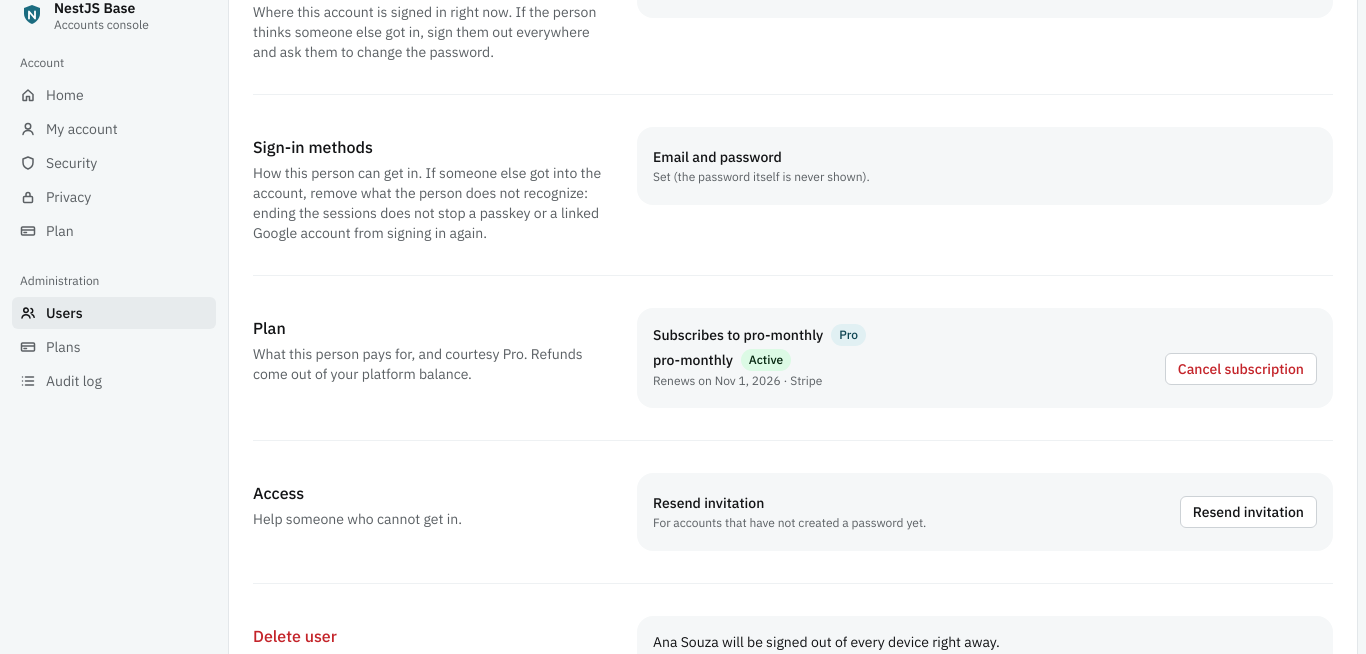
Test case: Plano do usuário (admin) › cancela a assinatura escolhendo o jeito: agora, devolvendo a última cobrança
(page scrolled)
Expected: the text "Subscribes to pro-monthly" is shown, [653,326,823,344]
Click the button "Cancel subscription" at (1241, 369), box [1165,353,1317,385]
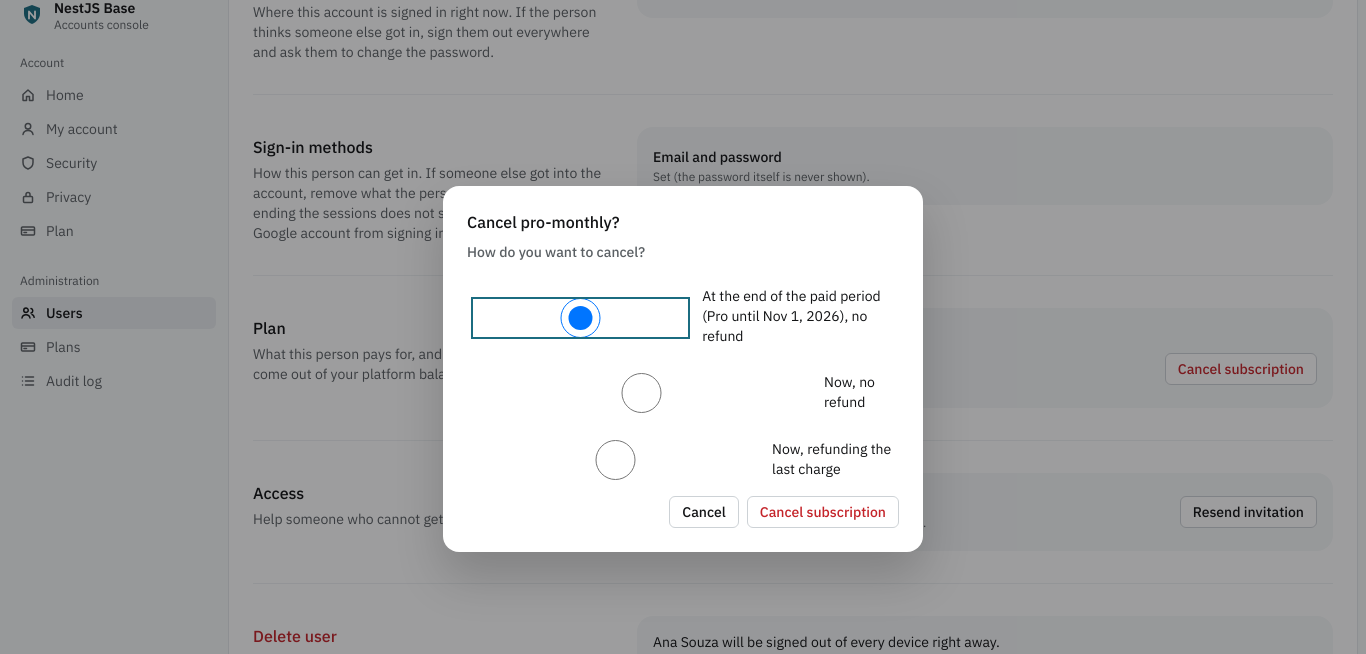
Now the radio button labelled "At the end of the paid period" is checked, box [472,298,689,338]
Click the radio button labelled "Now, refunding the last charge" at (616, 460), box [472,440,759,480]
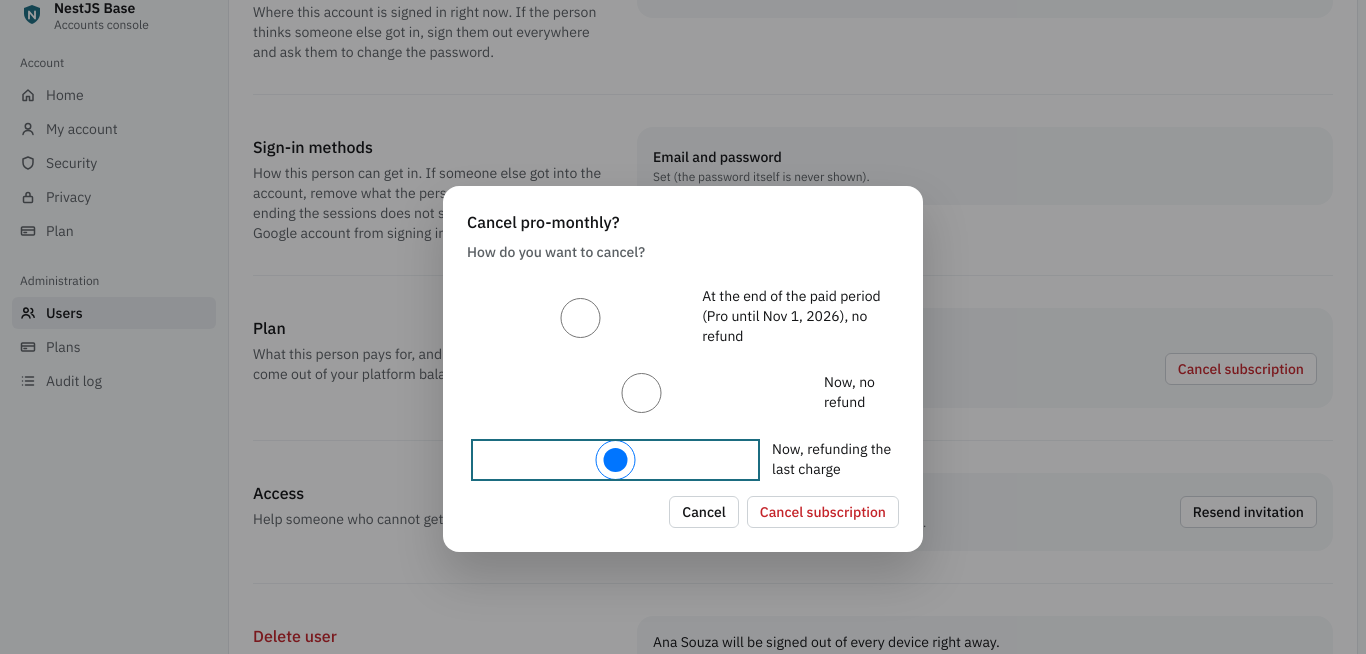
Click the button "Cancel subscription" at (823, 512), box [747,496,899,528]
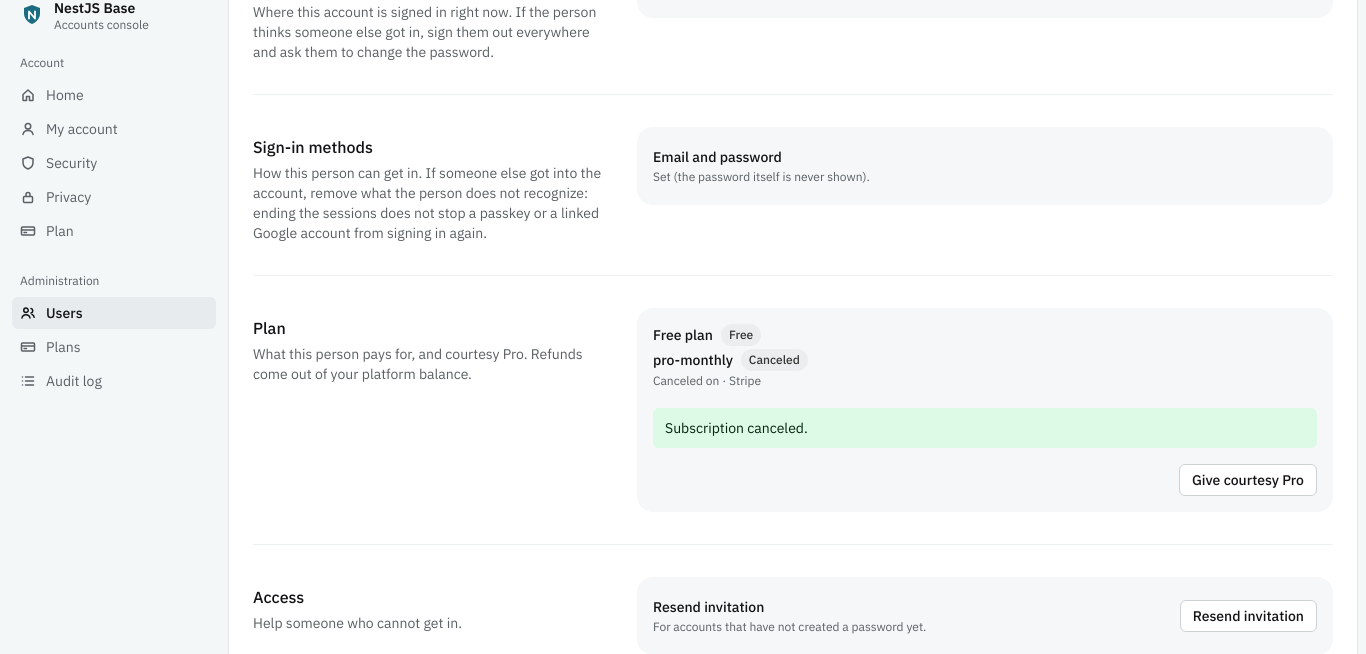
Now the text "Subscription canceled." is shown, box [653,408,1317,448]
